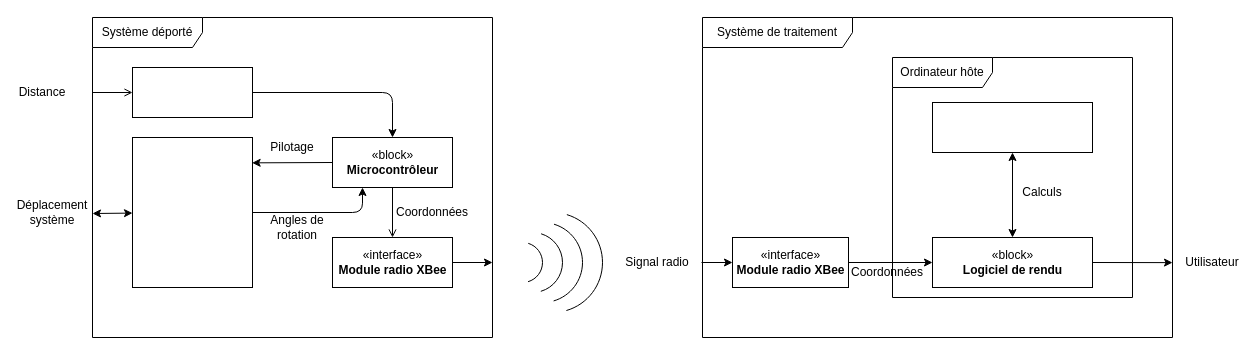
The diagram is 1256 pixels wide and 355 high, and some of its shapes have lost their labels. Here are the shapes that lost their labels. From the top down, the centre of each, then its label:
At (192,92): "«block» Capteur LiDAR".
At (1012,127): "«block» Processeur".
At (192,212): "«block» Servo-moteurs".
